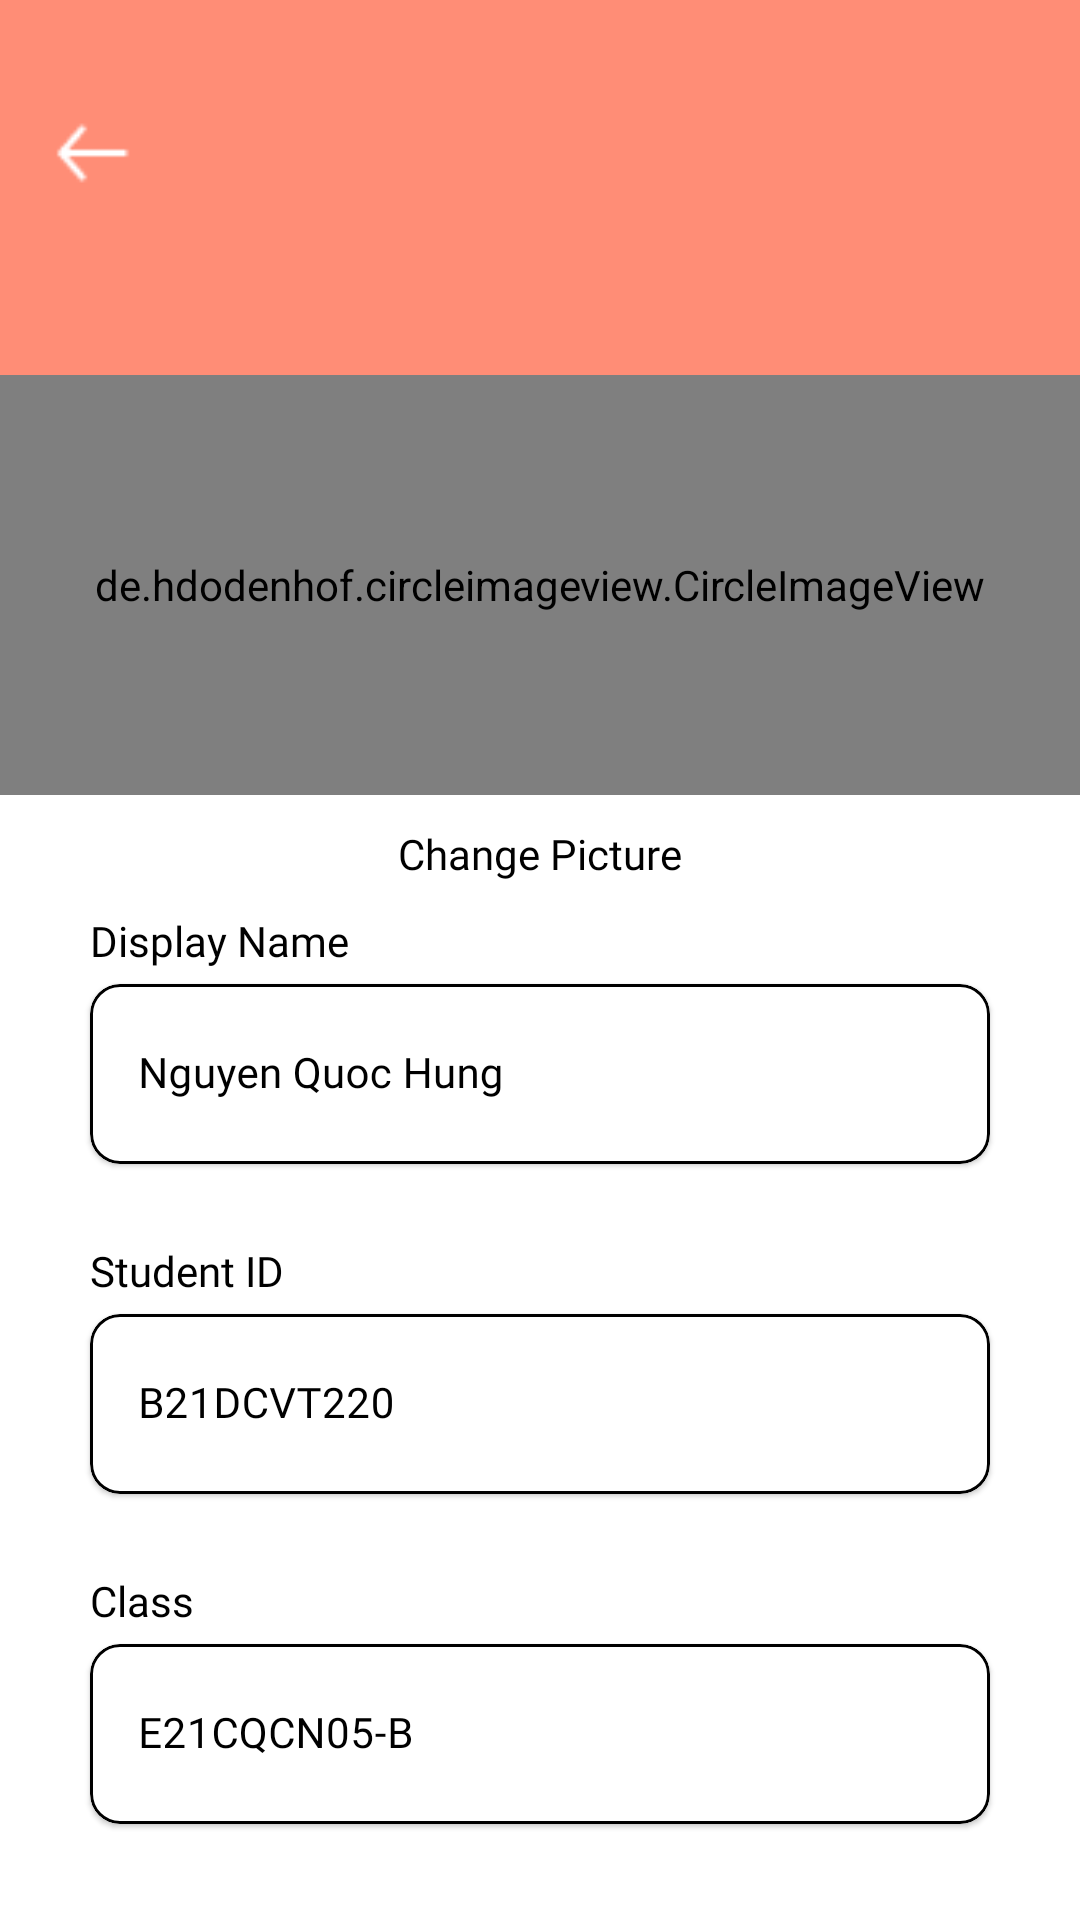

Icons on this 1080px x 1920px Android screen, each with its box as (x1, y1, x2, y2):
goback: (57, 124, 129, 182)
